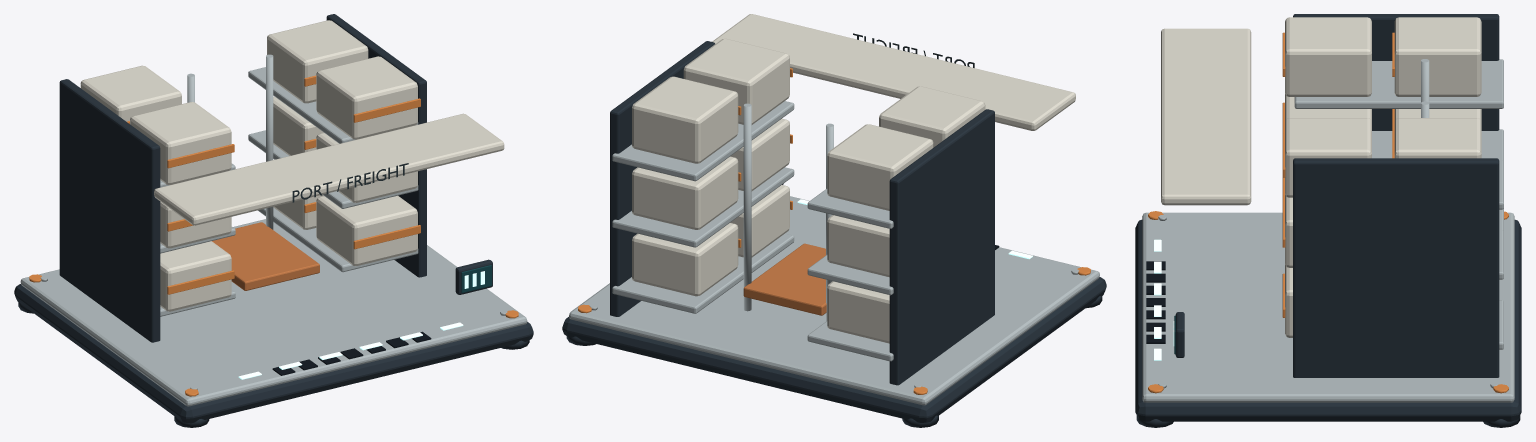
File: depot.glb
3 renders of one model, left to right at view 1: azimuth 30°, elevation 25°; view 2: azimuth 150°, elevation 25°; view 3: azimuth 270°, elevation 25°, orthographic. The views are drawn at different scales.
Parts seen in each view (by area): view 1: depot_ROOT__01_Ivory_ceramic, depot_ROOT__07_Machined_titanium, depot_ROOT__02_Graphite_chassis, Work_stock_lift__04_Burnished_copper, depot_ROOT__06_Mission_orange, depot_ROOT__03_Carbon_seals, depot_ROOT__status_light, depot_ROOT__12_Stencil_ink, depot_ROOT__09_Instrument_glass; view 2: depot_ROOT__01_Ivory_ceramic, depot_ROOT__07_Machined_titanium, depot_ROOT__02_Graphite_chassis, Work_stock_lift__04_Burnished_copper, depot_ROOT__06_Mission_orange; view 3: depot_ROOT__02_Graphite_chassis, depot_ROOT__01_Ivory_ceramic, depot_ROOT__07_Machined_titanium, depot_ROOT__06_Mission_orange, depot_ROOT__03_Carbon_seals, depot_ROOT__status_light.
Boxes of the visible parts, bbox=[...] form: depot_ROOT__01_Ivory_ceramic: bbox=[80, 20, 504, 311]; depot_ROOT__07_Machined_titanium: bbox=[20, 54, 527, 406]; depot_ROOT__02_Graphite_chassis: bbox=[14, 14, 533, 427]; Work_stock_lift__04_Burnished_copper: bbox=[212, 222, 319, 290]; depot_ROOT__06_Mission_orange: bbox=[29, 75, 518, 396]; depot_ROOT__03_Carbon_seals: bbox=[272, 331, 431, 375]; depot_ROOT__status_light: bbox=[238, 271, 484, 379]; depot_ROOT__12_Stencil_ink: bbox=[292, 163, 408, 202]; depot_ROOT__09_Instrument_glass: bbox=[461, 265, 491, 292]; depot_ROOT__01_Ivory_ceramic: bbox=[632, 14, 1075, 343]; depot_ROOT__07_Machined_titanium: bbox=[569, 101, 1099, 405]; depot_ROOT__02_Graphite_chassis: bbox=[562, 41, 1106, 427]; Work_stock_lift__04_Burnished_copper: bbox=[743, 243, 826, 315]; depot_ROOT__06_Mission_orange: bbox=[578, 68, 1090, 394]; depot_ROOT__02_Graphite_chassis: bbox=[1135, 14, 1521, 427]; depot_ROOT__01_Ivory_ceramic: bbox=[1161, 17, 1481, 337]; depot_ROOT__07_Machined_titanium: bbox=[1142, 59, 1514, 402]; depot_ROOT__06_Mission_orange: bbox=[1148, 32, 1508, 393]; depot_ROOT__03_Carbon_seals: bbox=[1146, 261, 1165, 343]; depot_ROOT__status_light: bbox=[1154, 239, 1174, 360].
Bounding box in the file's own units: 7 × 4.31 × 6.
